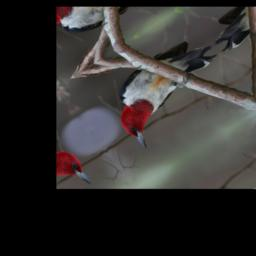Woodpecker: (96, 28, 245, 152)
